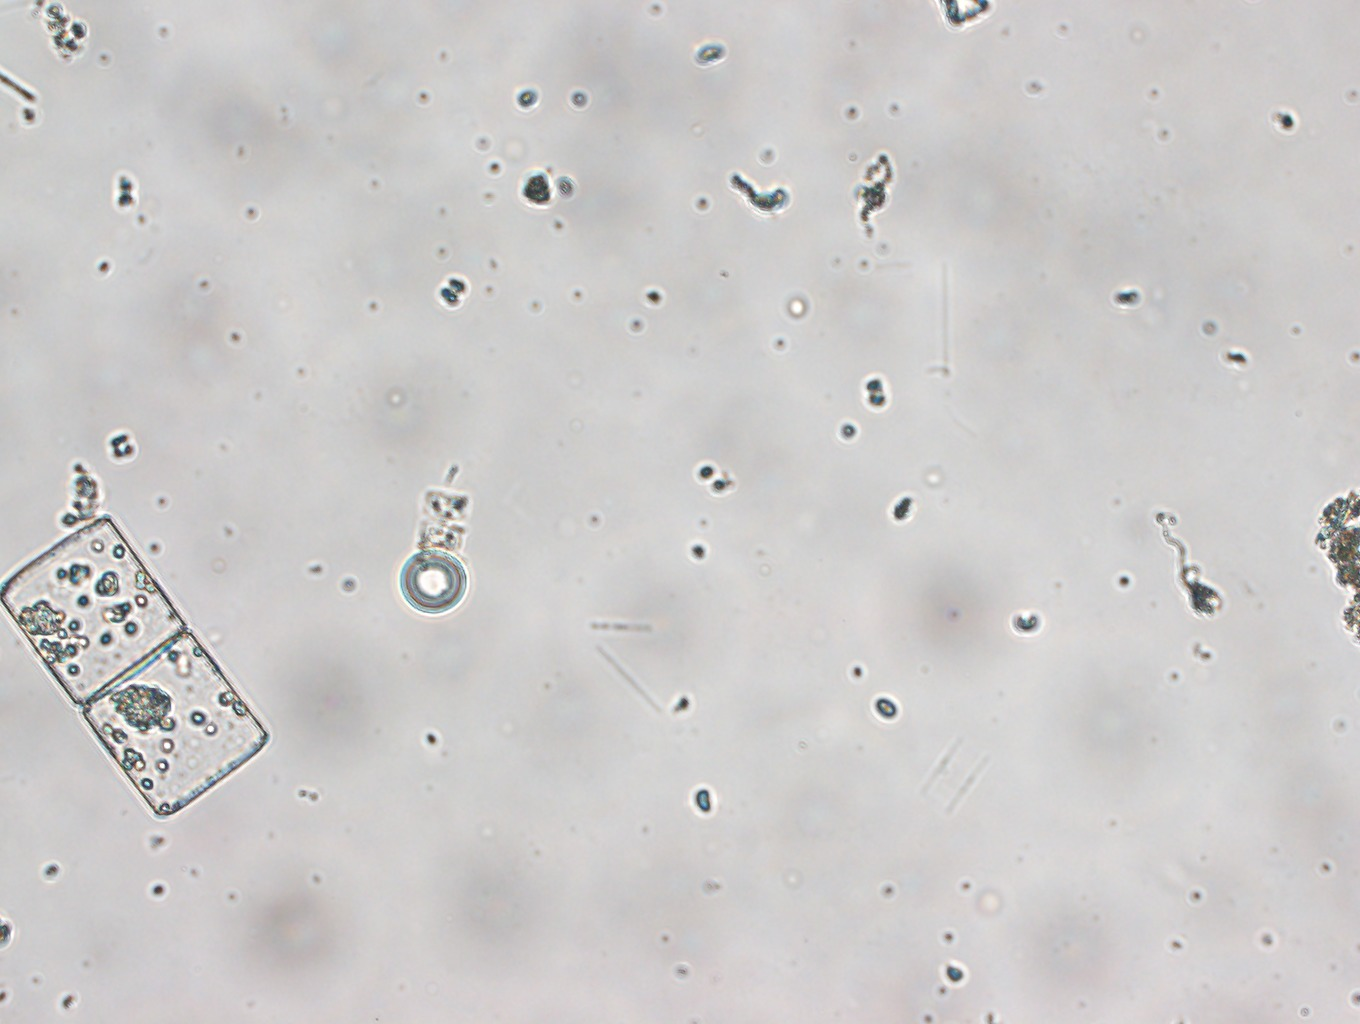guinardia flaccida: (1, 513, 267, 817)
